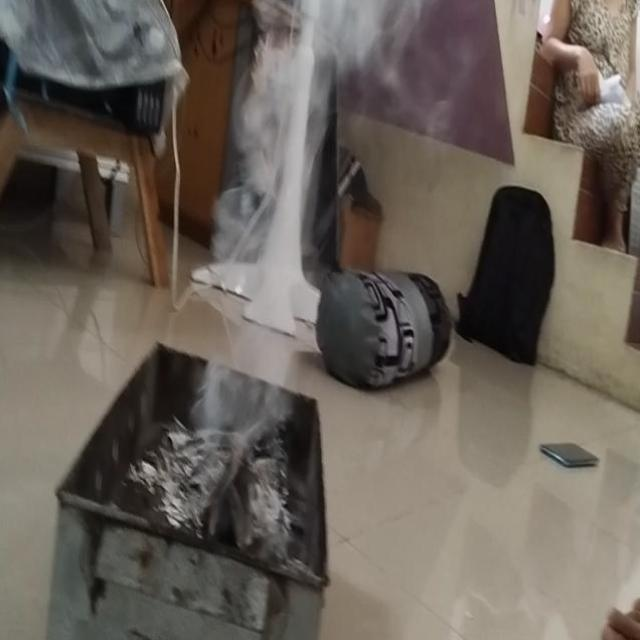fire: (228, 0, 382, 197), (194, 196, 296, 448)
